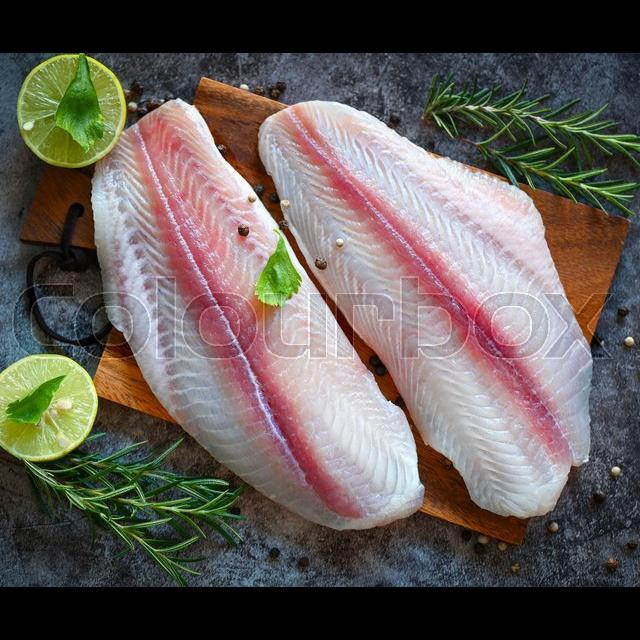fish: (250, 92, 613, 526)
